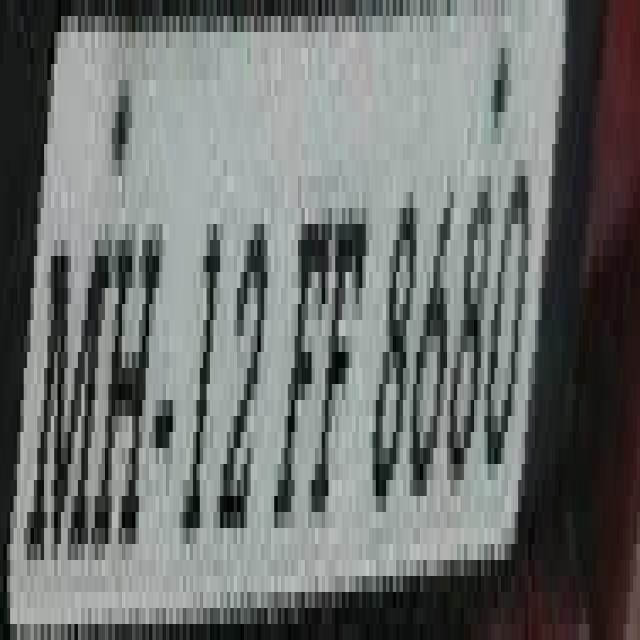plate: (0, 32, 610, 624)
